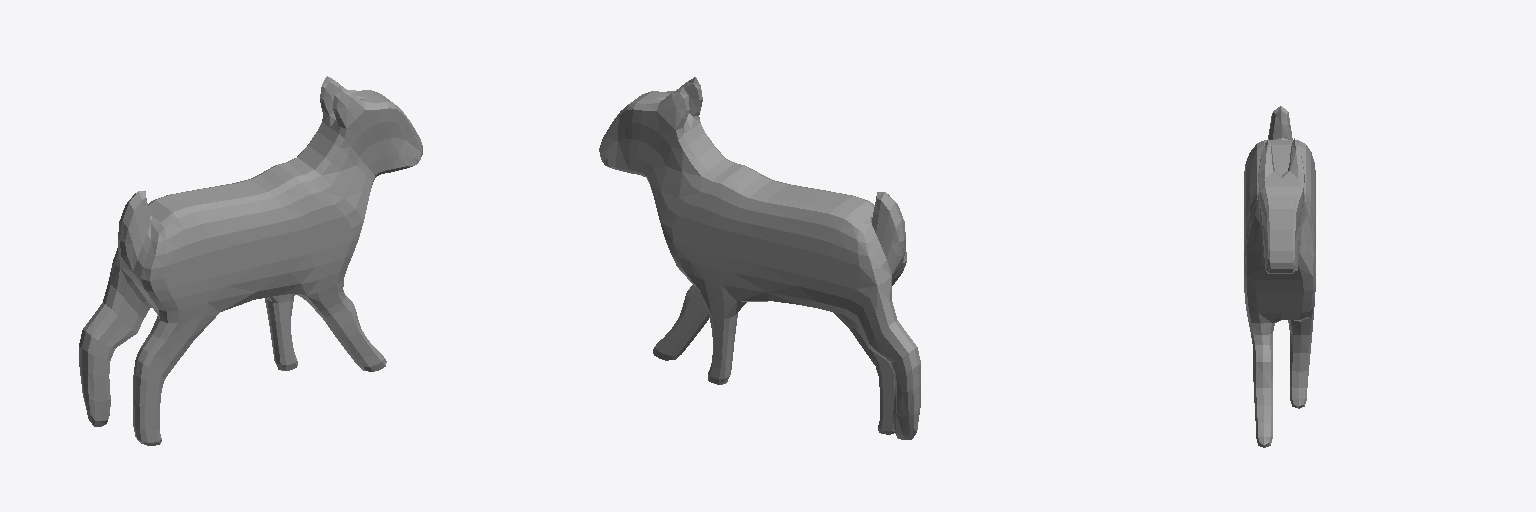
File: capretto.obj
The picture shows the model from 3 angles: view 1: azimuth 30°, elevation 25°; view 2: azimuth 150°, elevation 25°; view 3: azimuth 270°, elevation 25°; orthographic projection.
Parts seen in each view (by area): view 1: Cube; view 2: Cube; view 3: Cube.
Part boxes in pixels (bbox=[...]): Cube: bbox=[79, 76, 422, 445]; Cube: bbox=[599, 77, 920, 439]; Cube: bbox=[1244, 106, 1315, 447].
Bounding box in the file's own units: 6.85 × 6.29 × 1.31.